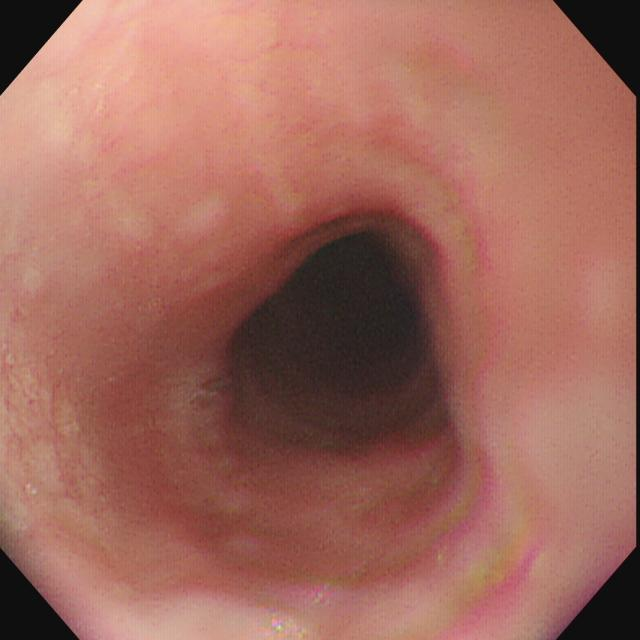E: (236, 232, 439, 426)
